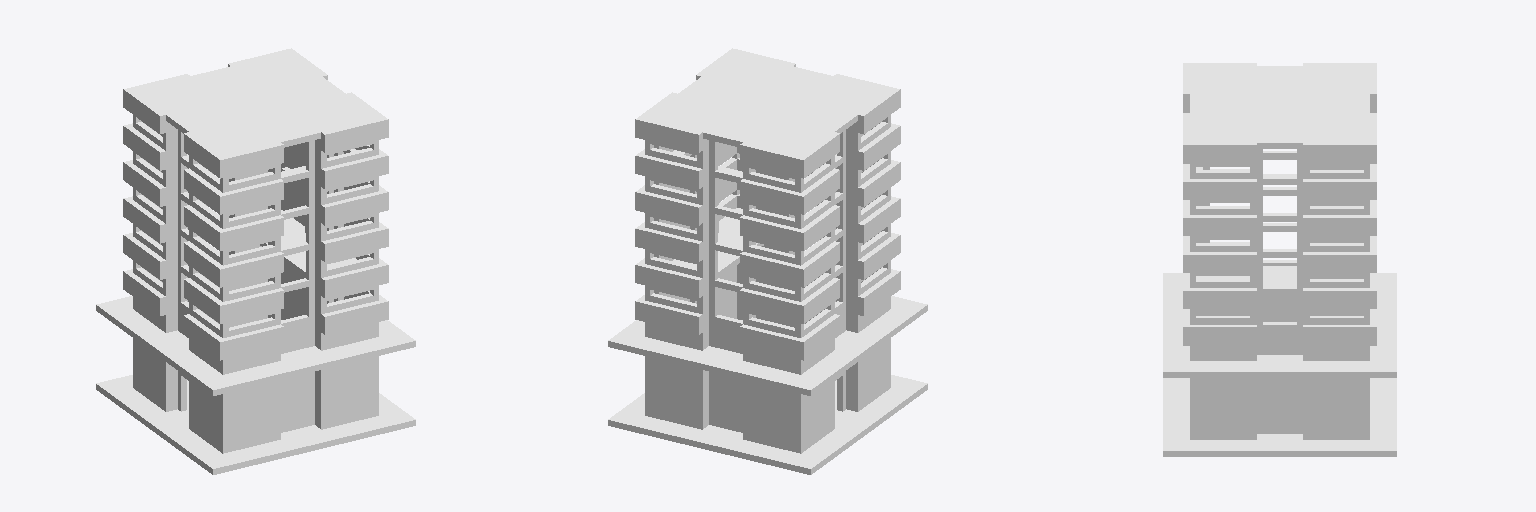
The model's file is bill.obj.
3 renders of one model, left to right at view 1: azimuth 30°, elevation 25°; view 2: azimuth 150°, elevation 25°; view 3: azimuth 270°, elevation 25°, orthographic.
Bounding box in the file's own units: 35 × 50 × 35.